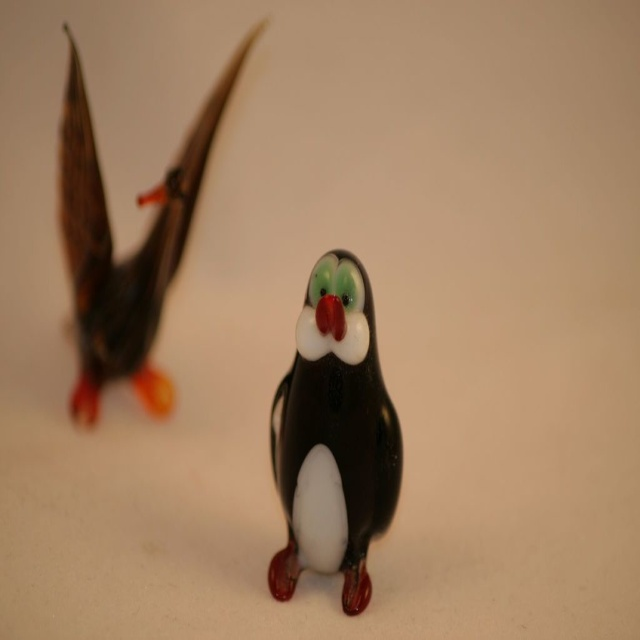Penguin: (268, 249, 406, 616)
